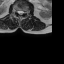CCS_normal: (19, 8, 21, 17)
LFS_normal: (24, 9, 26, 15)
LLS_normal: (21, 8, 24, 16)
RFS_normal: (15, 8, 17, 15)
RLS_normal: (17, 8, 19, 15)
